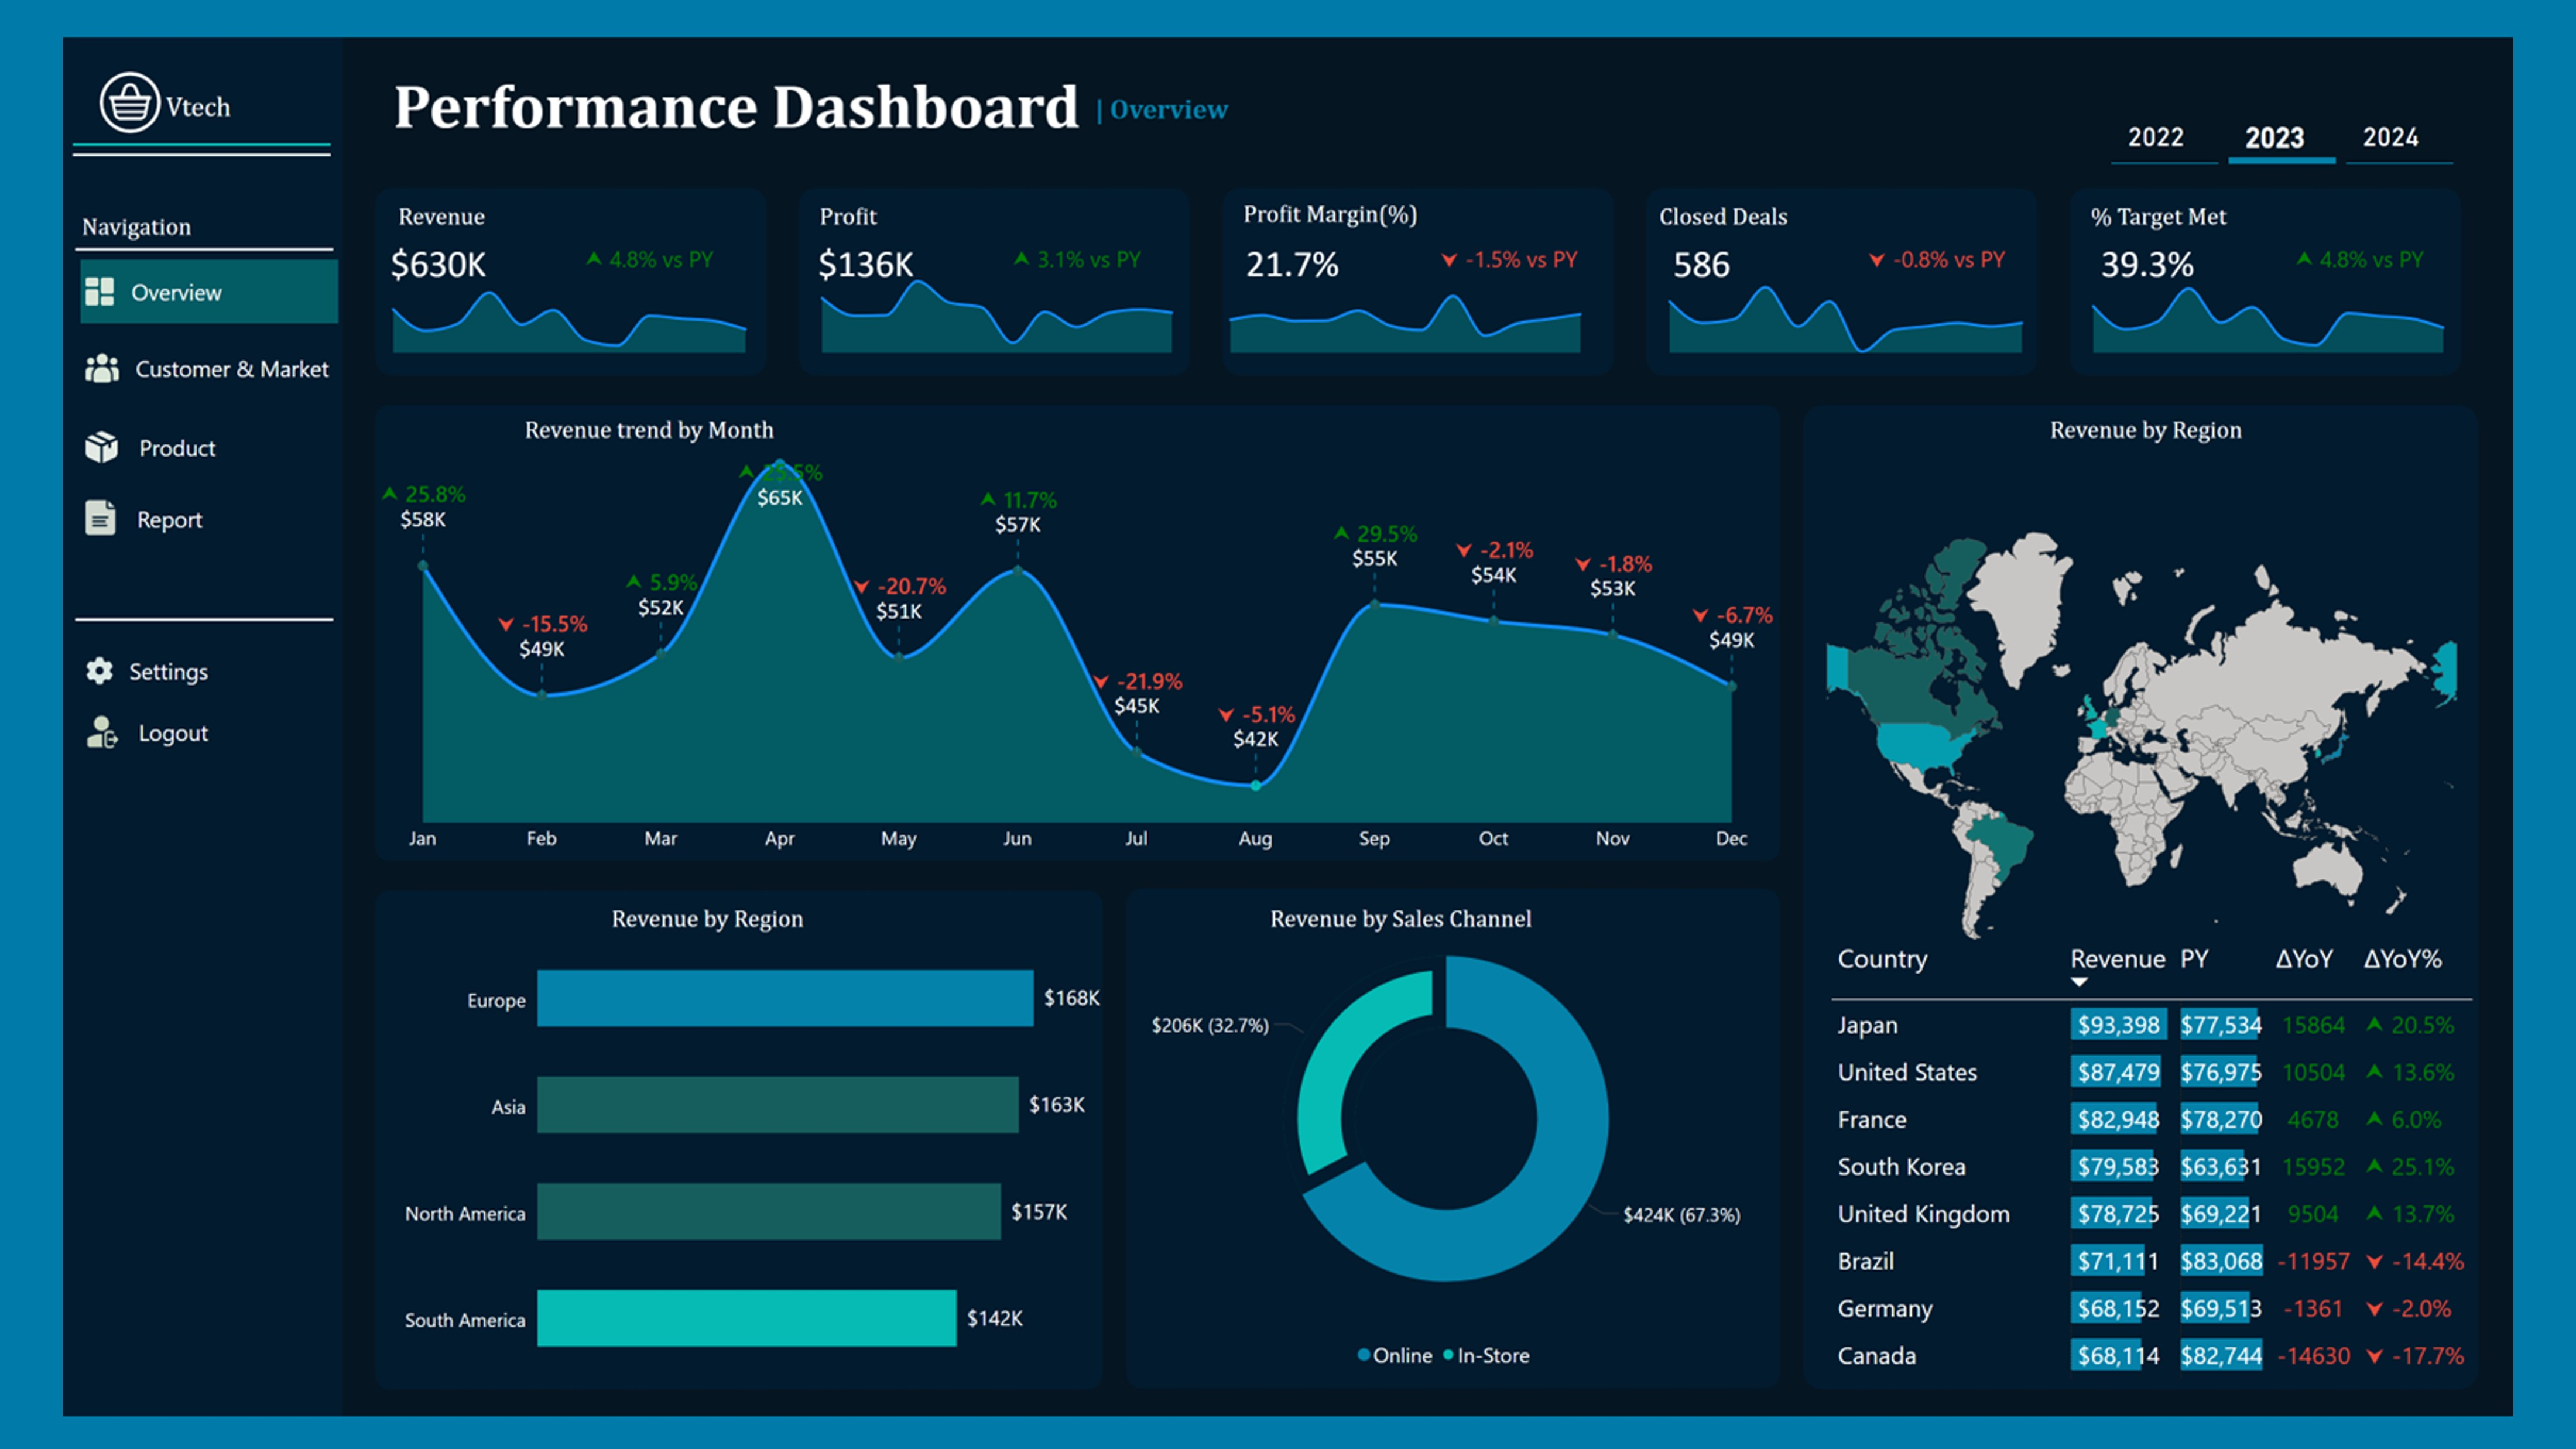

This screenshot's page, from the dashboard's own definition file:
{"tool":"powerbi","page":{"name":"  Overview","canvas":[1920,1080],"ordinal":0},"visuals":[{"type":"advancedSlicerVisual","fields":{"Values":["Calendar.Year"]},"box":[1600,48,278,56],"z":0},{"type":"cardVisual","fields":{"Data":["_measures.Total Revenue","_measures.Total Profit","_measures.Profit Margin %","_measures.Closed Deals","_measures.% Target Met"]},"box":[240,134,1680,66],"z":1000},{"type":"areaChart","fields":{"Y":["_measures.Profit"],"Category":["Calendar.Month"]},"box":[580,176,304,76],"z":2000},{"type":"areaChart","fields":{"Category":["Calendar.Month"],"Y":["_measures.Profit Margin"]},"box":[900,176,304,76],"z":3000},{"type":"areaChart","fields":{"Category":["Calendar.Month"],"Y":["_measures.Closed Deals"]},"box":[1244,176,306,76],"z":4000},{"type":"areaChart","fields":{"Category":["Calendar.Month"],"Y":["_measures.Target Met"]},"box":[1576,168,304,84],"z":5000},{"type":"areaChart","fields":{"Category":["Calendar.Month"],"Y":["_measures.Revenue"]},"box":[244,176,306,76],"z":6000},{"type":"textbox","box":[258,124,108,50],"z":7000},{"type":"textbox","box":[1584,124,206,50],"z":8000},{"type":"textbox","box":[1246,124,216,50],"z":9000},{"type":"textbox","box":[920,122,188,50],"z":10000},{"type":"textbox","box":[588,124,108,50],"z":11000},{"type":"areaChart","fields":{"Category":["Calendar.Month"],"Y":["_measures.Revenue"]},"box":[240,316,1110,332],"z":12000},{"type":"donutChart","fields":{"Category":["dimSalesChannel.Sales Channel"],"Y":["_measures.Revenue"]},"box":[788,674,592,378],"z":13000},{"type":"clusteredBarChart","fields":{"Y":["_measures.Revenue"],"Category":["dimCountry.Region"]},"box":[254,684,566,384],"z":14000},{"type":"textbox","box":[357.1,290.9,317.4,48.5],"z":15000},{"type":"textbox","box":[425.4,674.4,317.4,48.5],"z":16000},{"type":"textbox","box":[941.1,674.4,317.4,48.5],"z":17000},{"type":"tableEx","fields":{"Values":["dimCountry.Country","_measures.Revenue","_measures.PY","_measures.ΔYoY","_measures.ΔYoY%"]},"box":[1380,696,540,384],"z":18000},{"type":"shapeMap","fields":{"Value":["_measures.Revenue"],"Category":["dimCountry.Country"]},"box":[1350,340,558,414],"z":19000},{"type":"textbox","box":[1551.7,290.9,317.4,48.5],"z":20000},{"type":"textbox","box":[254,20,552,84],"z":21000},{"type":"textbox","box":[76,36,130,42],"z":22000,"group":"g1"},{"type":"textbox","box":[804,38,132,42],"z":22000},{"type":"actionButton","box":[14,174,202,50],"z":23000},{"type":"actionButton","box":[14,234,202,50],"z":24000},{"type":"textbox","box":[10,132,130,48],"z":25000},{"type":"shape","box":[10,146,202,40],"z":26000},{"type":"image","box":[2,10,102,82],"z":26004,"group":"g1"},{"type":"actionButton","box":[10,296,114,50],"z":27000},{"type":"shape","box":[10,436,202,40],"z":28000},{"type":"actionButton","box":[14,472,104,48],"z":29000},{"type":"actionButton","box":[14,520,104,48],"z":30000},{"type":"group","id":"g1","title":"Group 1","box":[2,10,204,82],"z":31000},{"type":"shape","box":[8,72,202,40],"z":32000},{"type":"shape","box":[8,64,202,40],"z":33000},{"type":"actionButton","box":[14,352,114,50],"z":34000}]}

Visuals, with their boxes in screenshot pixels (x1, y1, x2, y2), scaled from the page's 1920x1080 canvas onto the 2576x1449 screenshot:
advancedSlicerVisual - Calendar.Year: crop(2147, 64, 2520, 139)
cardVisual - _measures.Total Revenue x _measures.Total Profit: crop(322, 180, 2575, 268)
areaChart - _measures.Profit x Calendar.Month: crop(778, 236, 1186, 338)
areaChart - Calendar.Month x _measures.Profit Margin: crop(1207, 236, 1615, 338)
areaChart - Calendar.Month x _measures.Closed Deals: crop(1669, 236, 2080, 338)
areaChart - Calendar.Month x _measures.Target Met: crop(2115, 225, 2522, 338)
areaChart - Calendar.Month x _measures.Revenue: crop(327, 236, 738, 338)
textbox: crop(346, 166, 491, 234)
textbox: crop(2125, 166, 2402, 234)
textbox: crop(1671, 166, 1961, 234)
textbox: crop(1234, 164, 1486, 231)
textbox: crop(789, 166, 934, 234)
areaChart - Calendar.Month x _measures.Revenue: crop(322, 424, 1811, 869)
donutChart - dimSalesChannel.Sales Channel x _measures.Revenue: crop(1057, 905, 1851, 1412)
clusteredBarChart - _measures.Revenue x dimCountry.Region: crop(341, 918, 1100, 1433)
textbox: crop(479, 390, 905, 455)
textbox: crop(571, 905, 996, 970)
textbox: crop(1263, 905, 1688, 970)
tableEx - dimCountry.Country x _measures.Revenue: crop(1851, 934, 2575, 1448)
shapeMap - _measures.Revenue x dimCountry.Country: crop(1811, 456, 2560, 1012)
textbox: crop(2082, 390, 2508, 455)
textbox: crop(341, 27, 1081, 139)
textbox: crop(102, 48, 276, 105)
textbox: crop(1078, 51, 1256, 107)
actionButton: crop(19, 234, 290, 300)
actionButton: crop(19, 314, 290, 381)
textbox: crop(13, 177, 188, 241)
shape: crop(13, 196, 285, 249)
image: crop(3, 13, 139, 124)
actionButton: crop(13, 397, 166, 464)
shape: crop(13, 585, 285, 639)
actionButton: crop(19, 633, 158, 698)
actionButton: crop(19, 698, 158, 762)
"Group 1" group: crop(3, 13, 276, 124)
shape: crop(11, 97, 282, 150)
shape: crop(11, 86, 282, 139)
actionButton: crop(19, 472, 172, 539)
